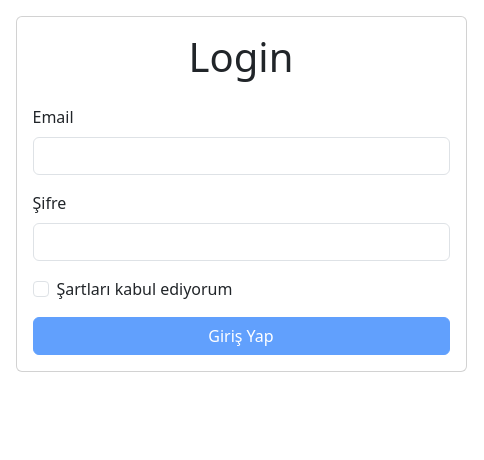
Test: Login Form E2E › email ve password yanlışsa 2 hata mesajı gösterir, password hata mesajı vardır ve buton disabled kalır
In the field with test id "email-input": (242,156) x1=33 y1=137 x2=450 y2=175, type "yanlis"
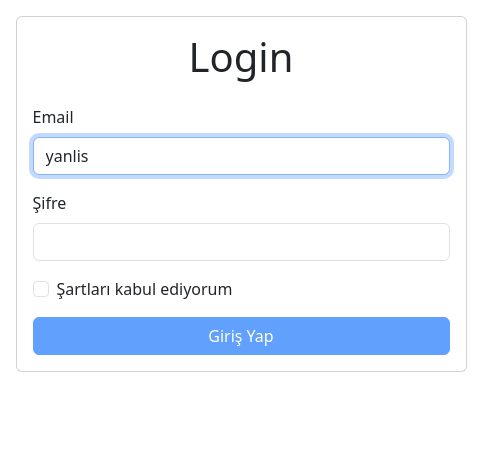
In the password field with test id "password-input": (242,242) x1=33 y1=223 x2=450 y2=261, type "1234"
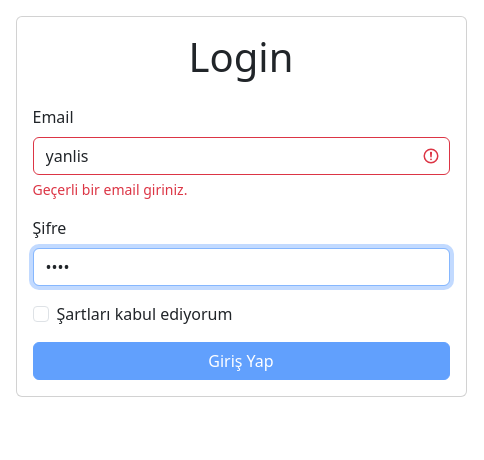
Check the checkbox with test id "terms-input": (41,314) x1=33 y1=306 x2=49 y2=322
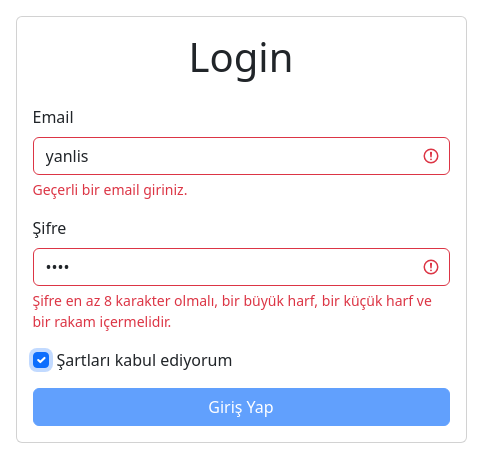
expect the button with test id "submit-button" is disabled: met, box x1=33 y1=388 x2=450 y2=426
expect the text with test id "password-error" is shown: met, box x1=33 y1=290 x2=450 y2=332
expect the text with test id "password-error" shows "Şifre en az 8 karakter olmalı, bir büyük harf, bir küçük harf ve bir rakam içermelidir.": met, box x1=33 y1=291 x2=432 y2=331
